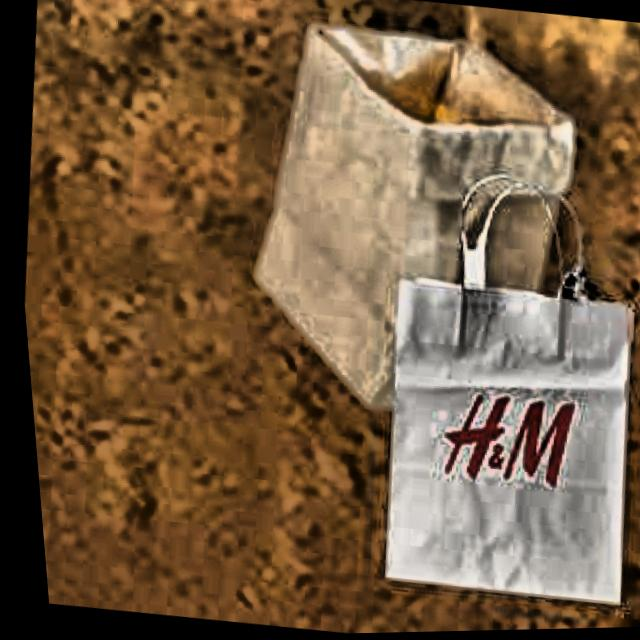Paper-bag: (199, 0, 616, 462), (340, 162, 640, 634)
